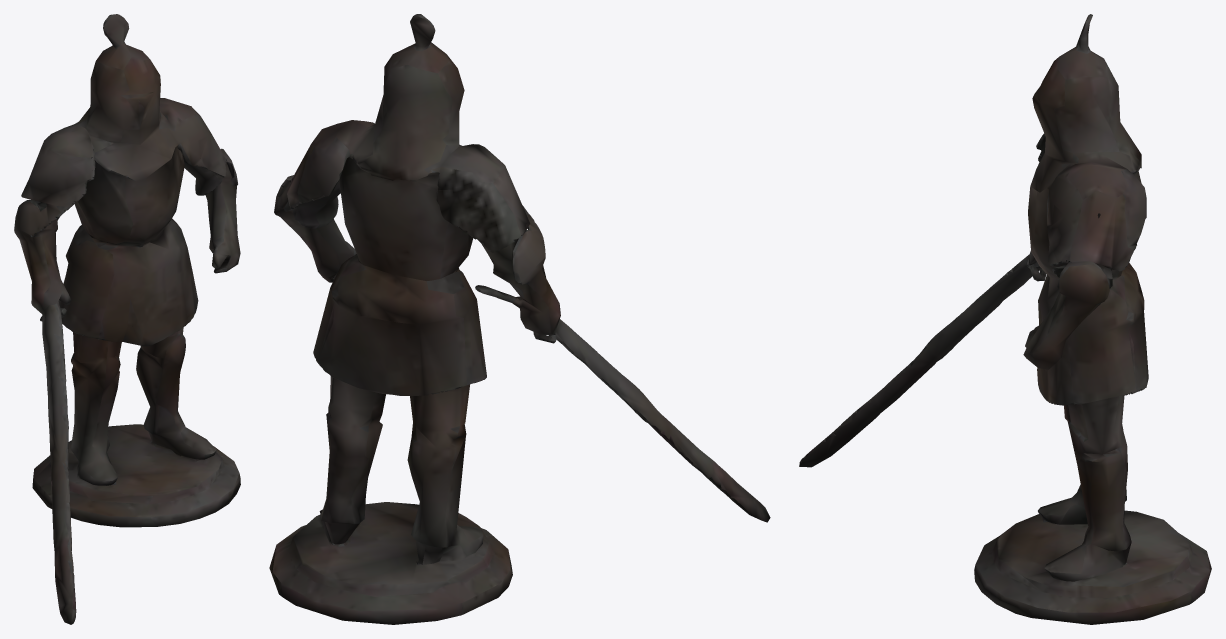
Rendered from plain-iron-suit-of-armour-v001.glb.
3 views of the same model, side by side, from view 1: azimuth 30°, elevation 25°; view 2: azimuth 150°, elevation 25°; view 3: azimuth 270°, elevation 25° (orthographic). The views are drawn at different scales.
Parts seen in each view (by area): view 1: plain-iron-suit-of-armour; view 2: plain-iron-suit-of-armour; view 3: plain-iron-suit-of-armour.
Part boxes in pixels (<box>): plain-iron-suit-of-armour: <box>14,14,240,624</box>; plain-iron-suit-of-armour: <box>269,14,770,624</box>; plain-iron-suit-of-armour: <box>799,14,1211,624</box>.
Size of the model in its own units: 1.2 by 1.9 by 1.29.
1 material, 1 textured.
